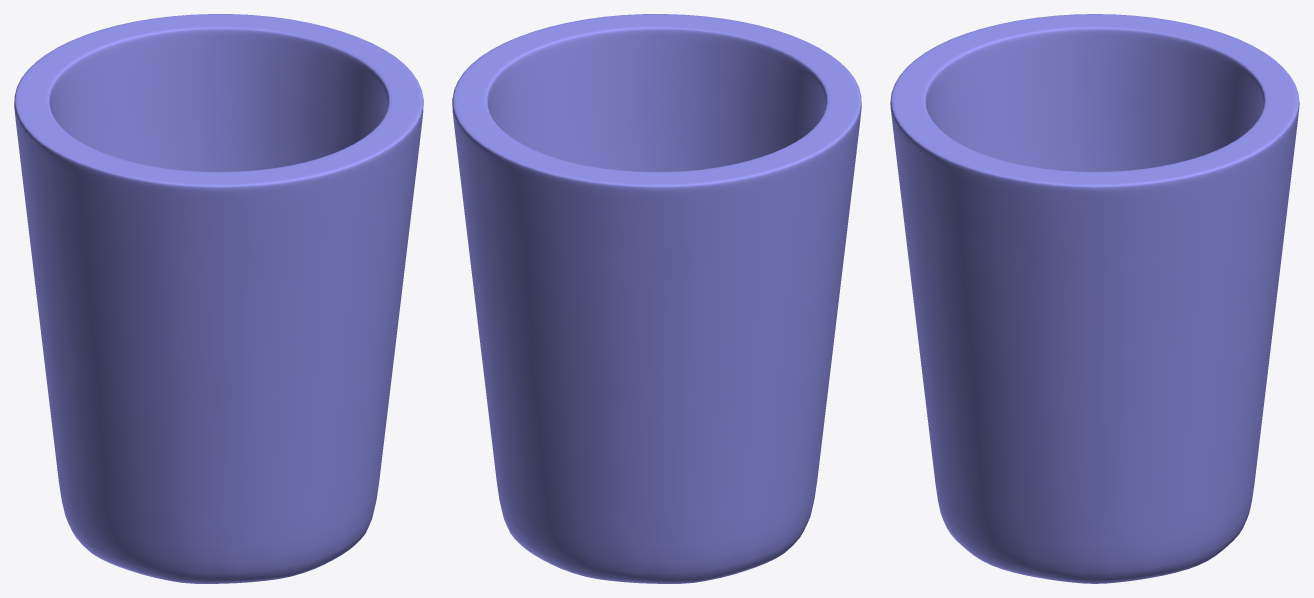
3 views of the same model, side by side, from view 1: azimuth 30°, elevation 25°; view 2: azimuth 150°, elevation 25°; view 3: azimuth 270°, elevation 25° (orthographic).
Visible parts, largest first — view 1: 圆盘; view 2: 圆盘; view 3: 圆盘.
Part boxes in pixels (x1,y1,x2,y2): 圆盘: (14,14,423,583); 圆盘: (452,14,861,583); 圆盘: (890,14,1299,583).
Bounding box in the file's own units: 240 × 278 × 240.
